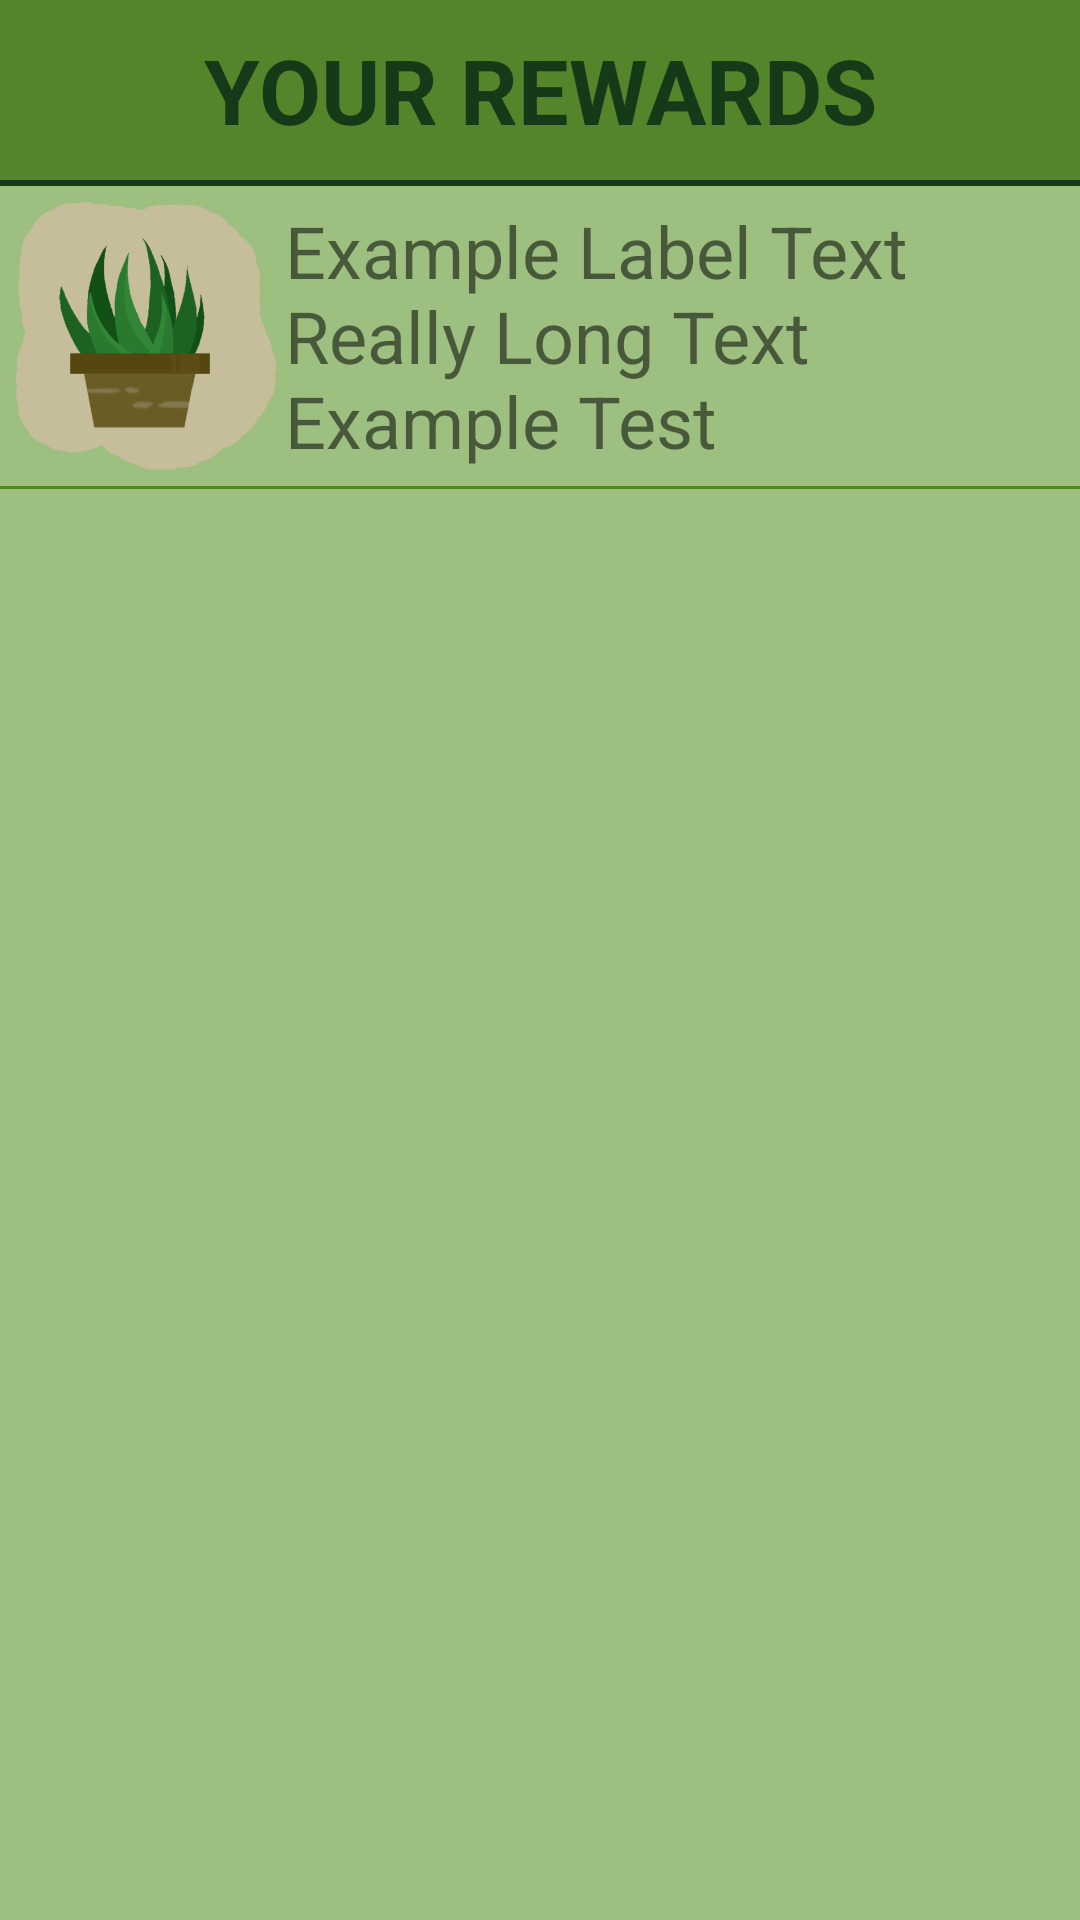

Icon click points for this 1080×1920 phone screenshot, format point (x, y):
aloe plant: point (146, 335)
